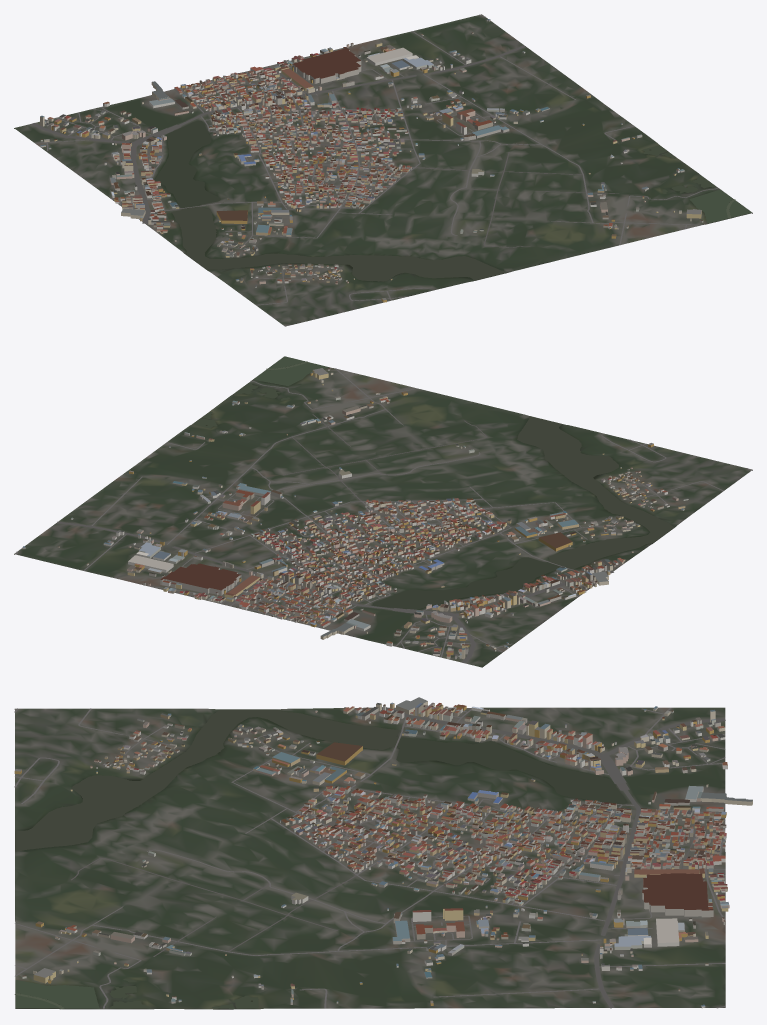
3 views of the same model, one above another, from view 1: azimuth 30°, elevation 25°; view 2: azimuth 150°, elevation 25°; view 3: azimuth 270°, elevation 25° (orthographic). The views are drawn at different scales.
Visible parts, largest first — view 1: ground, buildings, water, roads; view 2: ground, buildings, water, roads; view 3: ground, buildings, water, roads.
Part boxes in pixels (x1,y1,x2,y2): ground: (14,14,752,326); buildings: (40,19,703,302); water: (154,121,751,281); roads: (31,14,718,325); ground: (14,360,752,667); buildings: (22,368,688,659); water: (193,356,673,609); roads: (16,368,751,663); ground: (14,707,725,1009); buildings: (14,697,752,1008); water: (14,709,625,1009); roads: (14,707,725,1008).
Size of the model in its own units: 1431 by 33.68 by 1458.
